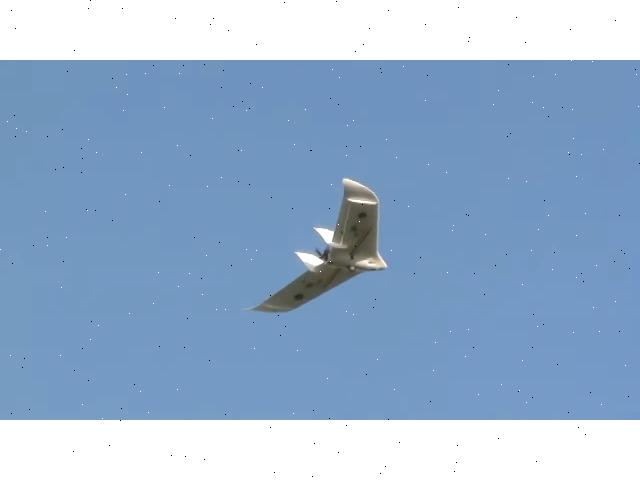Anti-Drone: (232, 168, 398, 324)
